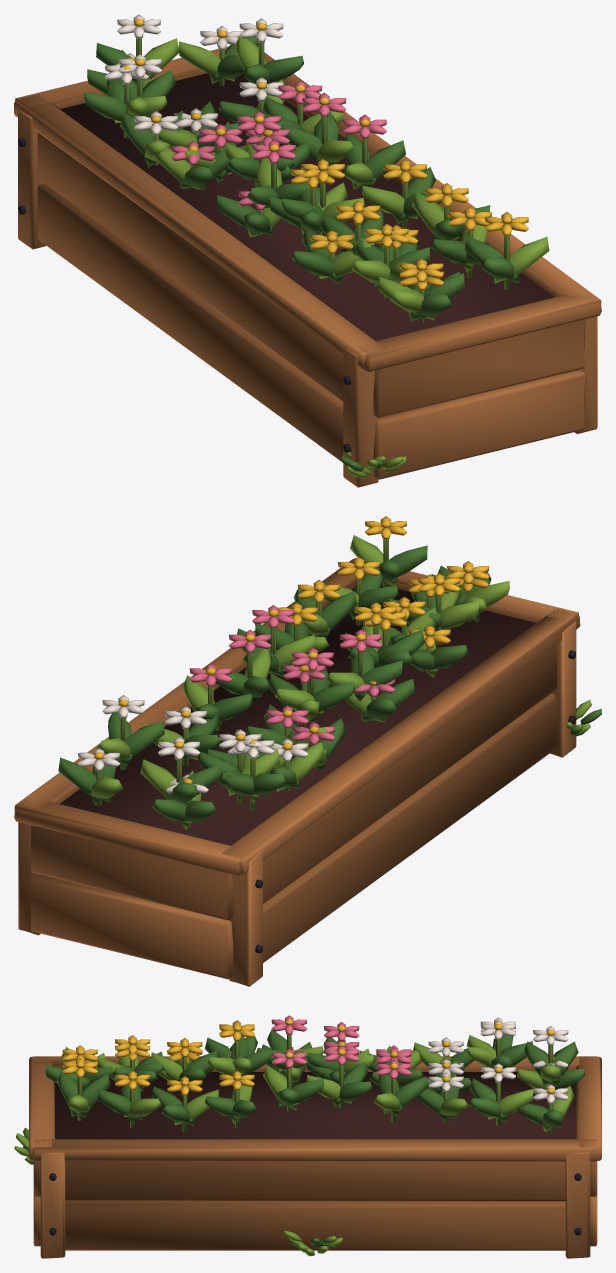
File: prop.flower-bed.large.lod1.glb
3 renders of one model, top to bottom at view 1: azimuth 30°, elevation 25°; view 2: azimuth 150°, elevation 25°; view 3: azimuth 270°, elevation 25°, orthographic. The views are drawn at different scales.
Size of the model in its own units: 0.9794 by 0.7119 by 2.15.
